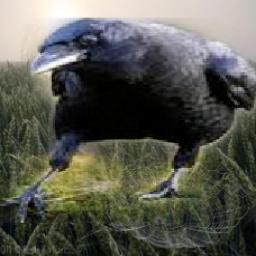Crow: (0, 18, 256, 223)
